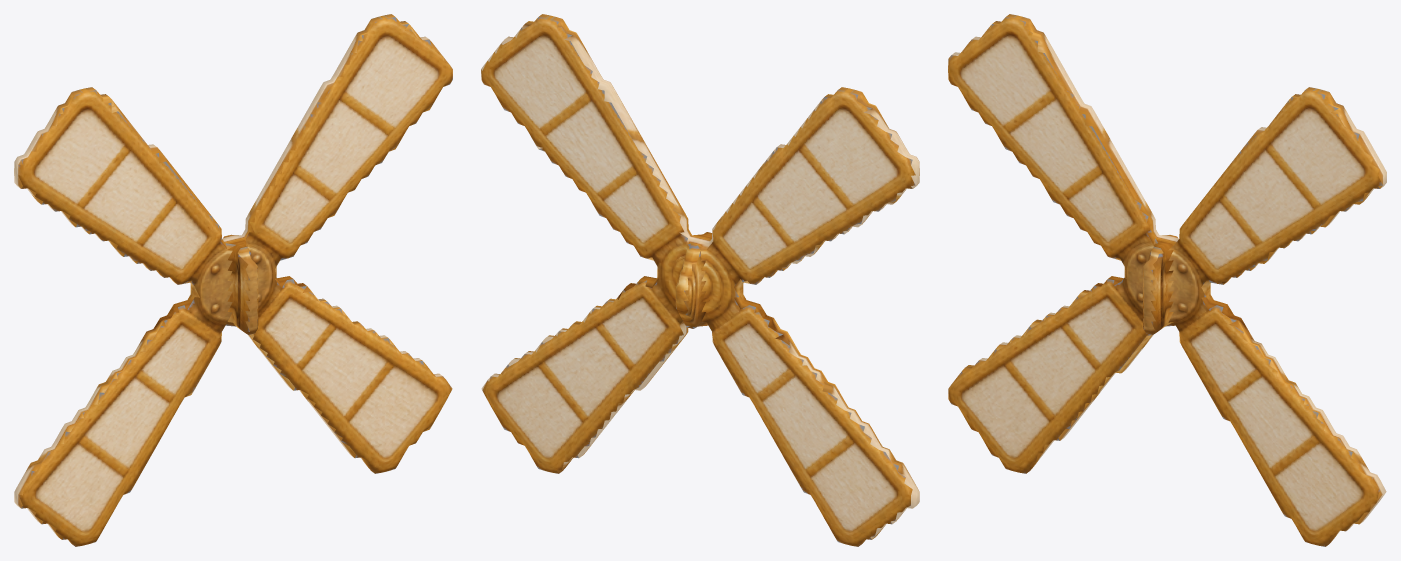
File: rotor.glb
3 views of the same model, side by side, from view 1: azimuth 30°, elevation 25°; view 2: azimuth 150°, elevation 25°; view 3: azimuth 330°, elevation 25° (orthographic).
Bounding box in the file's own units: 1 × 0.9983 × 0.1603.
1 material, 1 textured.
